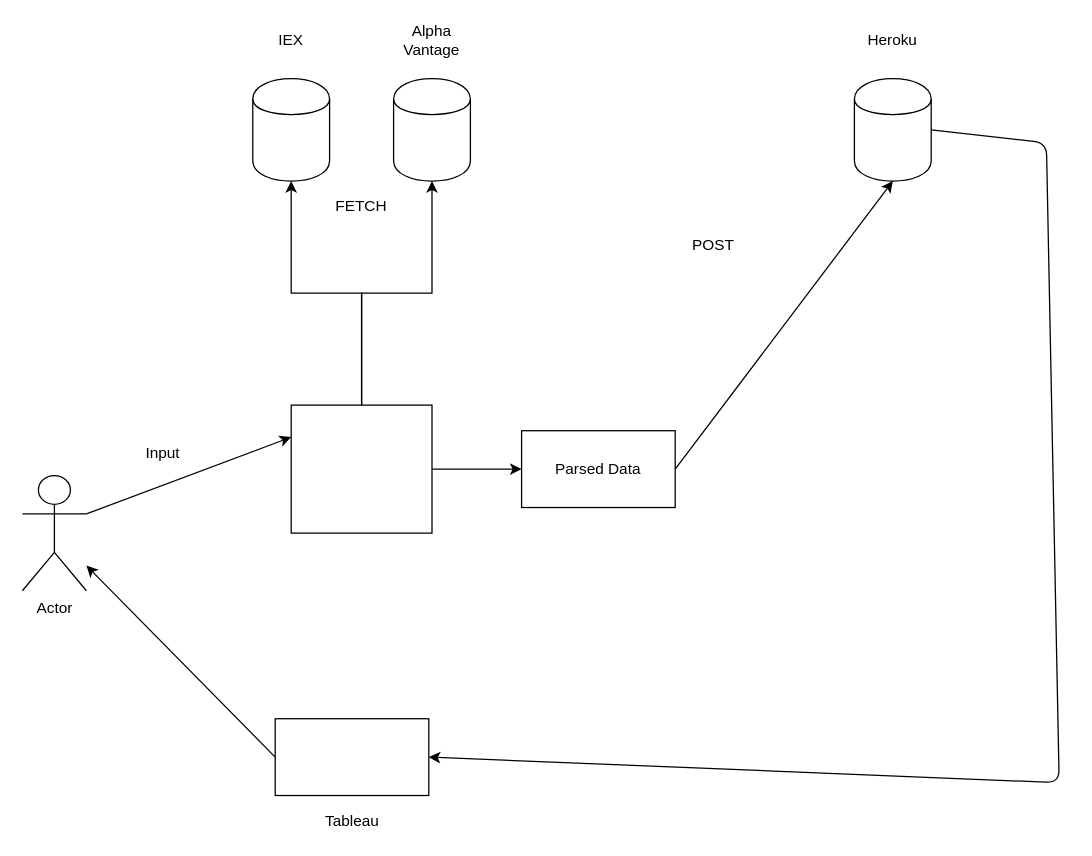
Some shapes in this 1092 by 856 pixel diagram are drawn without their labels. Each missing label, with the box of its shape:
Data analysis: (274, 717, 429, 796)
MB Investing: (290, 404, 432, 533)
